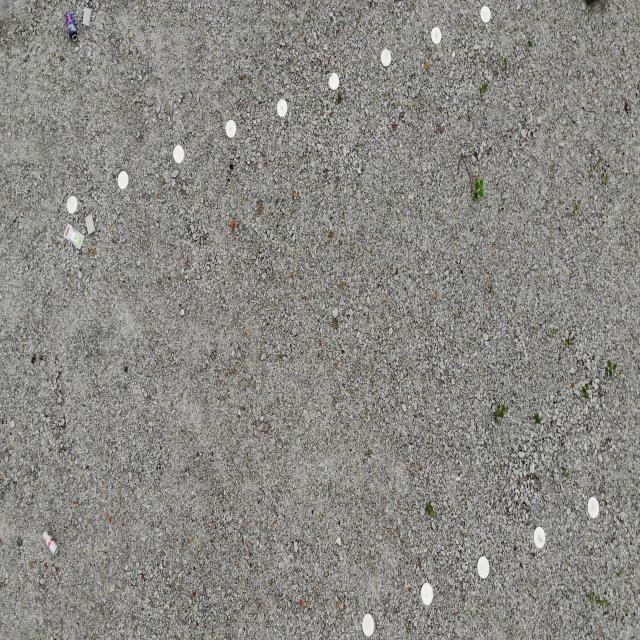rubbish: (40, 528, 60, 558), (64, 225, 83, 251), (64, 11, 77, 41), (84, 212, 95, 231), (82, 7, 91, 28)
